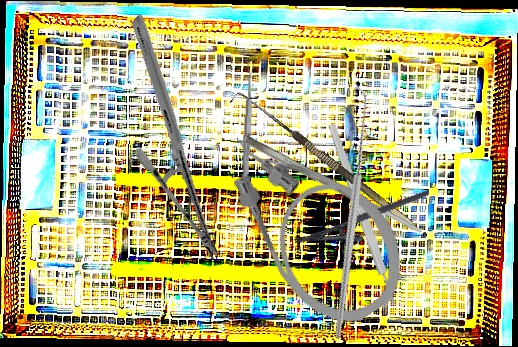Cannula: (205, 96, 426, 344)
Hook Surgical: (227, 85, 468, 341), (229, 87, 414, 237)
Needle Holder: (49, 13, 302, 262), (293, 189, 437, 263)
Scalpel Handle: (326, 122, 399, 307)
Spatula Surgical: (242, 133, 425, 238)
Surgical Spoon: (240, 62, 256, 190)
